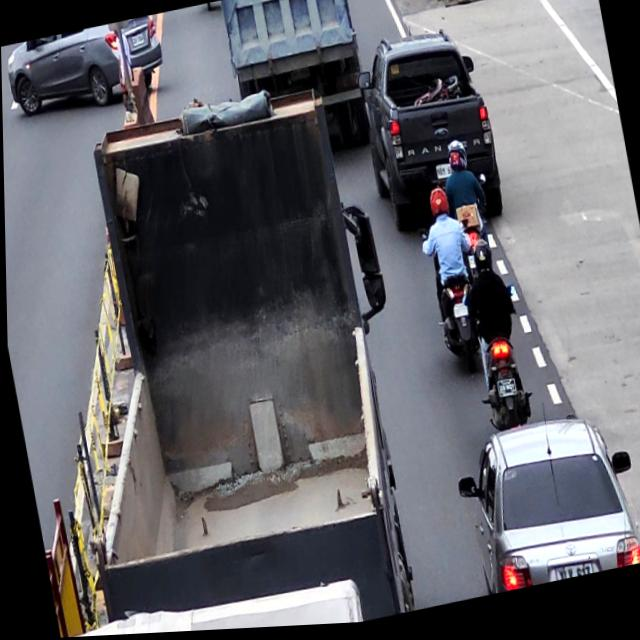Car: (458, 412, 640, 601), (354, 32, 508, 236)
License-Plate: (550, 564, 591, 587), (495, 382, 518, 405), (435, 164, 453, 184)
Motorcycle: (460, 240, 534, 443), (417, 189, 484, 383)
Truck: (16, 87, 411, 631), (219, 0, 358, 96)
